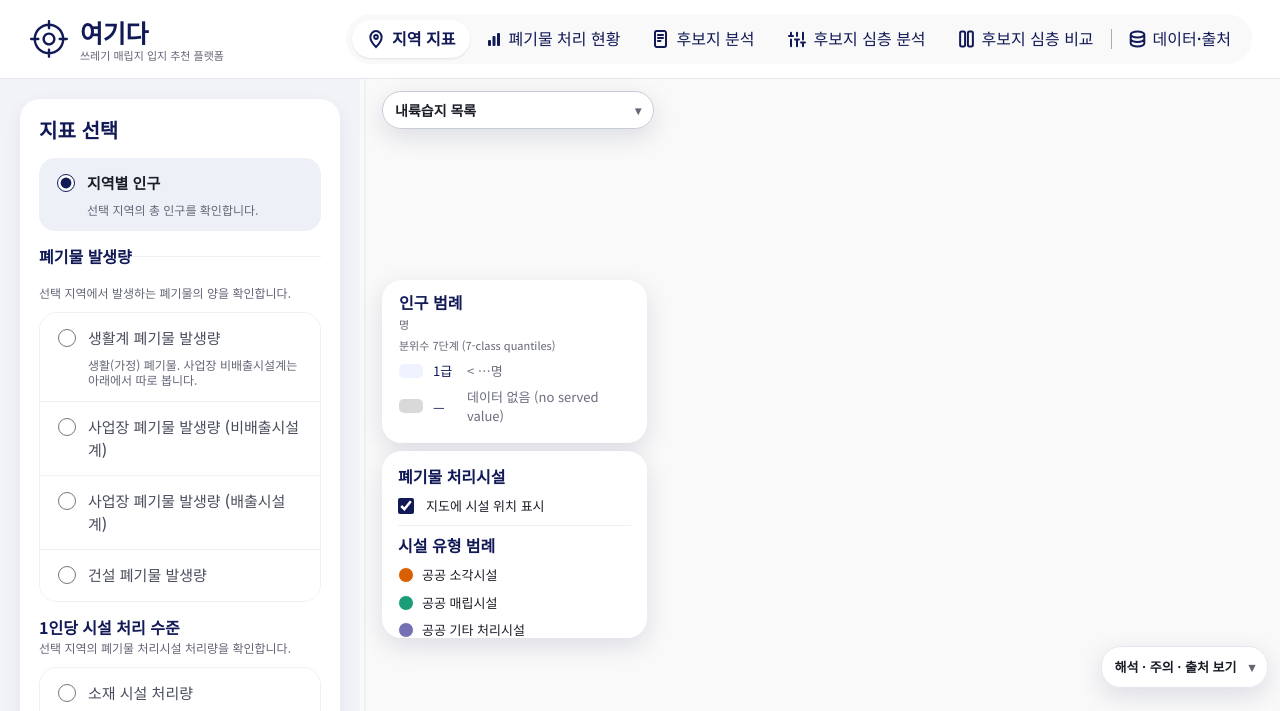
Scenario: ② 계산 모델 가중치 설정 — what stays primary › keeps the basis selector and a clear selected state on the primary surface
Click the button with test id "mode-suitability" at (856, 39), box [772, 20, 941, 58]
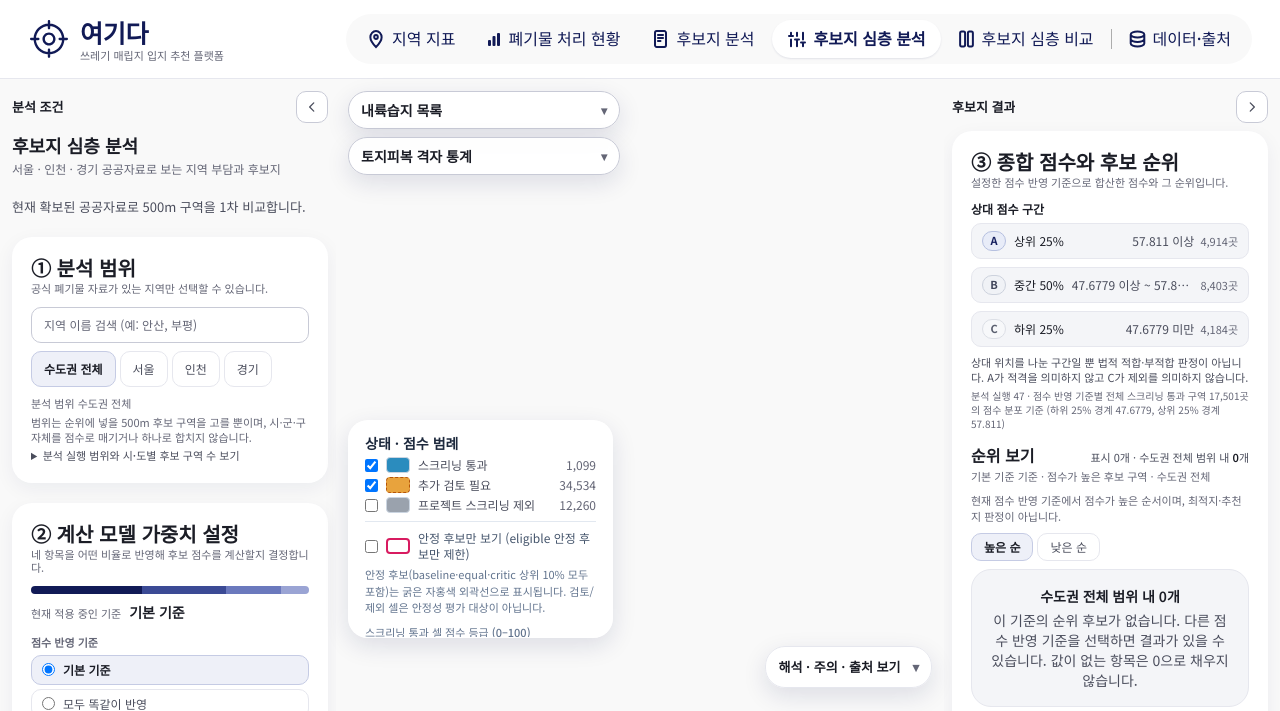
Expected: the radio button with test id "profile-radio-baseline" is checked, [42, 663, 55, 676]
